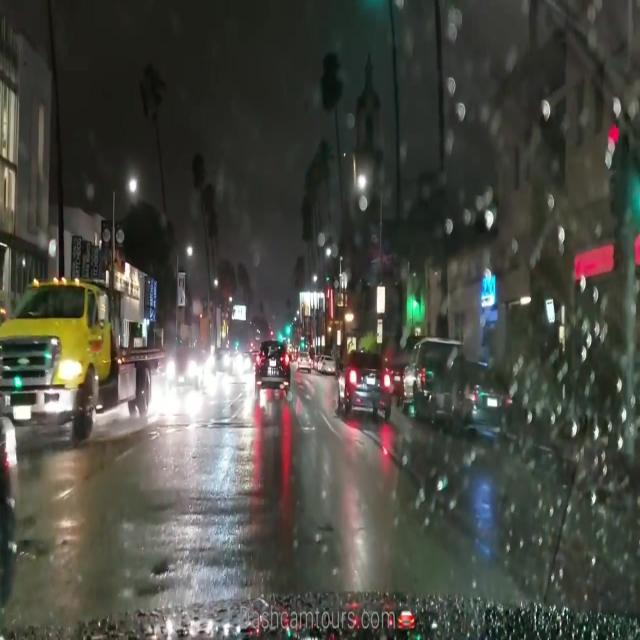Car: (438, 354, 509, 431), (335, 354, 390, 412), (400, 334, 435, 408), (253, 340, 290, 387)
